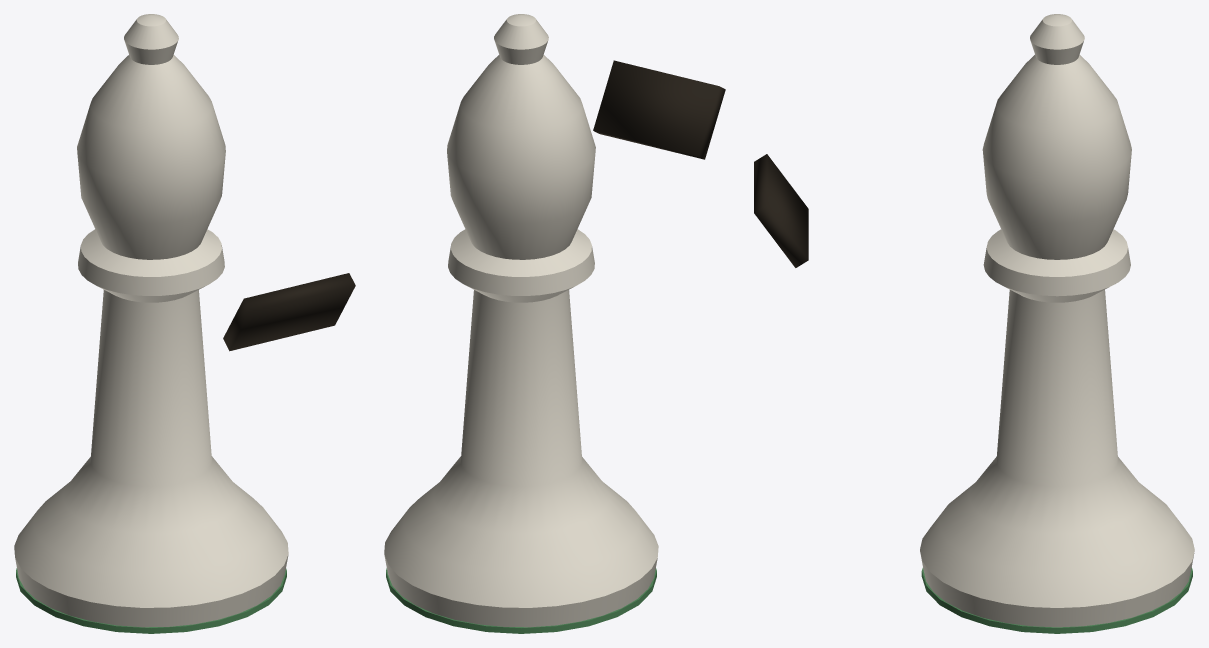
File: chess_bishop_w.glb
3 renders of one model, left to right at view 1: azimuth 30°, elevation 25°; view 2: azimuth 150°, elevation 25°; view 3: azimuth 270°, elevation 25°, orthographic.
Parts seen in each view (by area): view 1: Piece, Slit, Felt; view 2: Piece, Slit, Felt; view 3: Piece, Slit, Felt.
Boxes of the visible parts, x1,y1,x2,y2 form: Piece: (14, 14, 288, 627); Slit: (223, 273, 355, 351); Felt: (16, 568, 286, 633); Piece: (384, 14, 658, 627); Slit: (593, 60, 725, 159); Felt: (386, 568, 656, 633); Piece: (920, 14, 1194, 627); Slit: (754, 154, 808, 267); Felt: (921, 567, 1192, 633).
Size of the model in its own units: 0.0342 by 0.077 by 0.0548.
